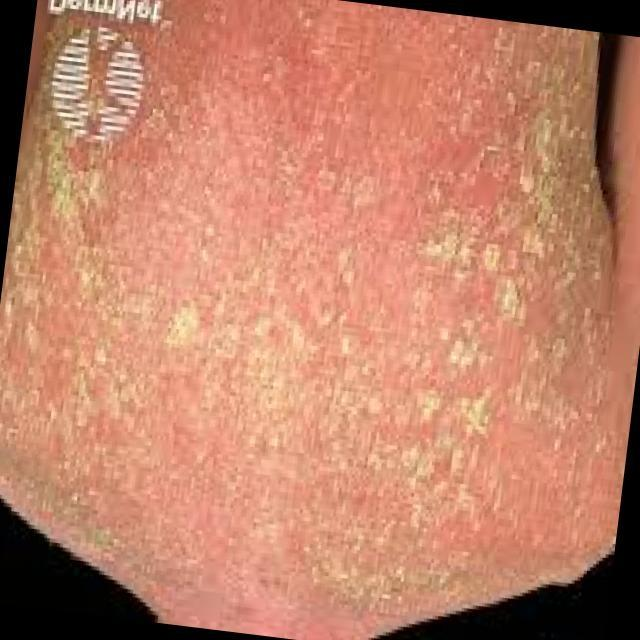Eczema: (15, 9, 598, 576)
